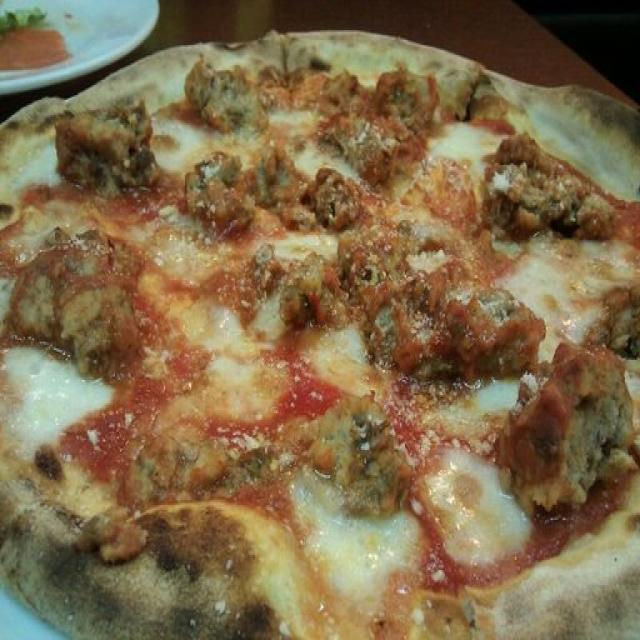Cheese: (294, 476, 418, 593), (408, 438, 521, 564), (505, 218, 633, 329), (0, 332, 105, 464), (149, 98, 212, 194), (430, 117, 504, 169)
Pizza: (0, 32, 640, 640)
Sausage: (344, 222, 538, 366), (498, 335, 634, 511), (11, 224, 120, 376), (482, 126, 611, 236), (331, 397, 408, 538), (53, 107, 159, 196), (257, 253, 351, 334), (330, 91, 408, 178), (294, 148, 362, 239), (184, 49, 251, 140)
